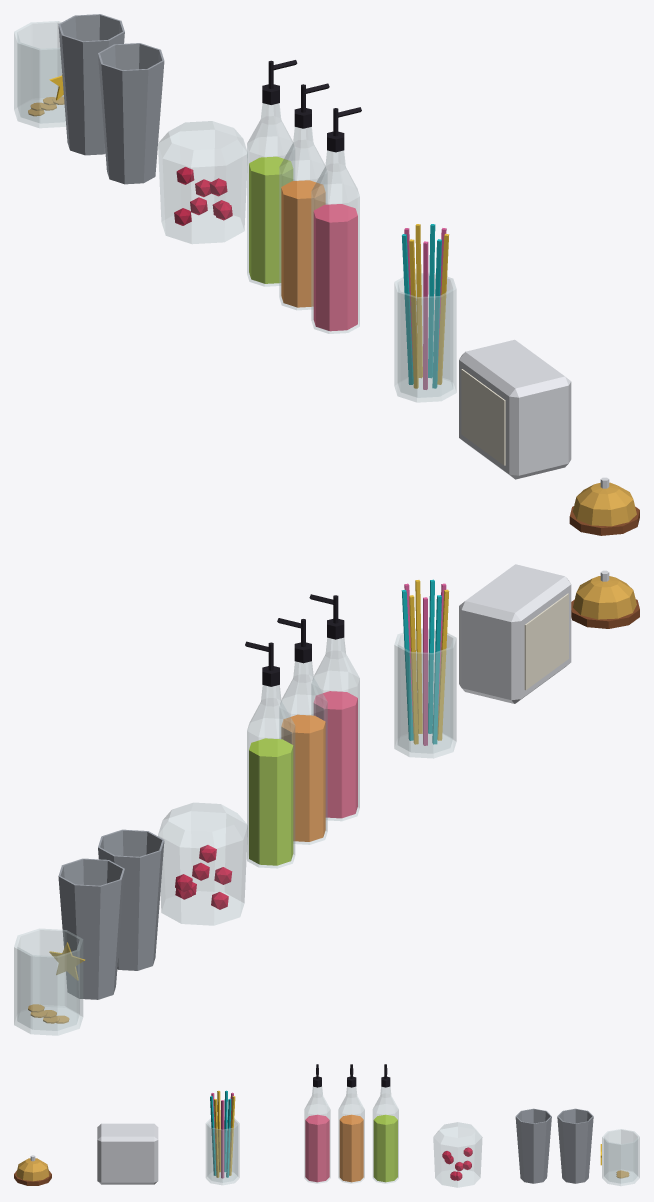
3 renders of one model, top to bottom at view 1: azimuth 30°, elevation 25°; view 2: azimuth 150°, elevation 25°; view 3: azimuth 270°, elevation 25°, orthographic. The views are drawn at different scales.
Parts seen in each view (by area): view 1: napkin_box, cherry_jar_glass, syrup_bottle_0_glass, shake_tin_0_body, straw_jar_glass, syrup_bottle_1_glass, syrup_bottle_2_glass, shake_tin_1_body, syrup_bottle_0_syrup, tip_jar_glass, syrup_bottle_1_syrup, syrup_bottle_2_syrup (+10 smaller); view 2: napkin_box, cherry_jar_glass, syrup_bottle_2_glass, shake_tin_1_body, straw_jar_glass, tip_jar_glass, syrup_bottle_0_glass, syrup_bottle_1_glass, shake_tin_0_body, syrup_bottle_2_syrup, syrup_bottle_1_syrup, syrup_bottle_0_syrup (+10 smaller); view 3: napkin_box, cherry_jar_glass, syrup_bottle_0_glass, shake_tin_0_body, syrup_bottle_1_glass, shake_tin_1_body, syrup_bottle_2_glass, tip_jar_glass, straw_jar_glass, syrup_bottle_0_syrup, syrup_bottle_1_syrup, syrup_bottle_2_syrup (+9 smaller).
Part boxes in pixels (x1=…): napkin_box: x1=459, y1=339, x2=571, y2=479; cherry_jar_glass: x1=158, y1=121, x2=247, y2=243; syrup_bottle_0_glass: x1=311, y1=150, x2=359, y2=333; shake_tin_0_body: x1=98, y1=43, x2=164, y2=184; straw_jar_glass: x1=394, y1=273, x2=456, y2=402; syrup_bottle_1_glass: x1=279, y1=127, x2=327, y2=309; syrup_bottle_2_glass: x1=247, y1=103, x2=294, y2=286; shake_tin_1_body: x1=58, y1=14, x2=124, y2=155; syrup_bottle_0_syrup: x1=313, y1=204, x2=357, y2=331; tip_jar_glass: x1=14, y1=21, x2=65, y2=127; syrup_bottle_1_syrup: x1=281, y1=180, x2=325, y2=307; syrup_bottle_2_syrup: x1=249, y1=156, x2=292, y2=283; napkin_box: x1=459, y1=564, x2=571, y2=703; cherry_jar_glass: x1=158, y1=803, x2=247, y2=925; syrup_bottle_2_glass: x1=247, y1=685, x2=294, y2=868; shake_tin_1_body: x1=58, y1=858, x2=124, y2=999; straw_jar_glass: x1=394, y1=628, x2=456, y2=758; tip_jar_glass: x1=14, y1=928, x2=82, y2=1035; syrup_bottle_0_glass: x1=311, y1=638, x2=359, y2=820; syrup_bottle_1_glass: x1=279, y1=661, x2=327, y2=844; shake_tin_0_body: x1=98, y1=829, x2=164, y2=970; syrup_bottle_2_syrup: x1=249, y1=738, x2=293, y2=865; syrup_bottle_1_syrup: x1=281, y1=714, x2=325, y2=841; syrup_bottle_0_syrup: x1=314, y1=691, x2=357, y2=818; napkin_box: x1=97, y1=1123, x2=158, y2=1184; cherry_jar_glass: x1=433, y1=1122, x2=482, y2=1187; syrup_bottle_0_glass: x1=304, y1=1087, x2=330, y2=1183; shake_tin_0_body: x1=515, y1=1108, x2=551, y2=1183; syrup_bottle_1_glass: x1=338, y1=1087, x2=364, y2=1183; shake_tin_1_body: x1=557, y1=1108, x2=593, y2=1183; syrup_bottle_2_glass: x1=373, y1=1086, x2=398, y2=1183; tip_jar_glass: x1=602, y1=1129, x2=639, y2=1185; straw_jar_glass: x1=206, y1=1118, x2=239, y2=1184; syrup_bottle_0_syrup: x1=305, y1=1114, x2=329, y2=1182; syrup_bottle_1_syrup: x1=339, y1=1114, x2=363, y2=1182; syrup_bottle_2_syrup: x1=373, y1=1114, x2=397, y2=1182.
Size of the model in its own units: 0.13 by 0.33 by 1.65.
